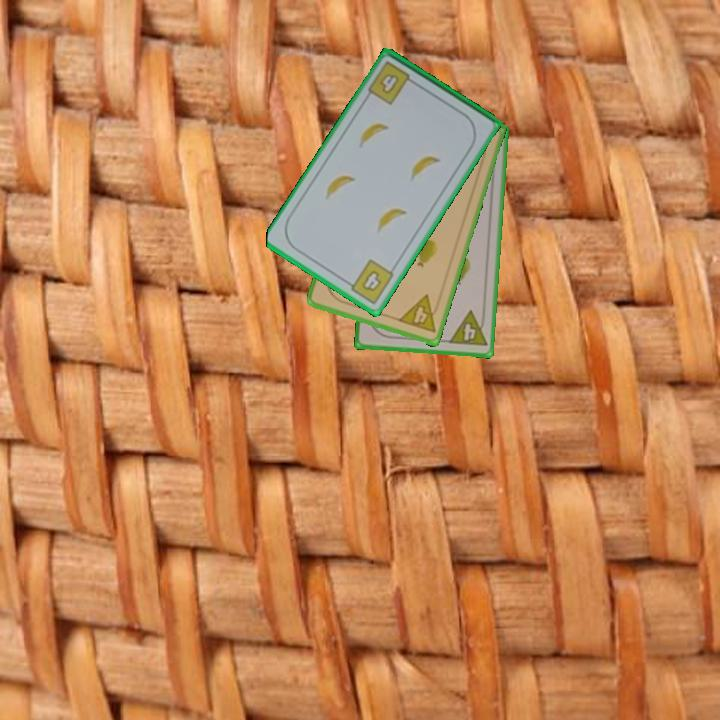4b: (342, 256, 397, 307), (364, 58, 419, 108)
4p: (394, 292, 444, 336), (445, 307, 490, 350)
